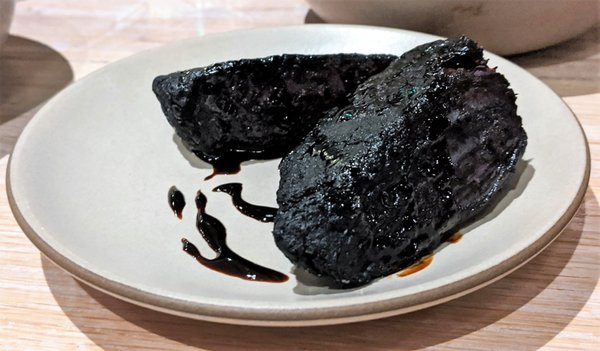curry: (3, 3, 595, 343)
sushi: (149, 36, 528, 290)
